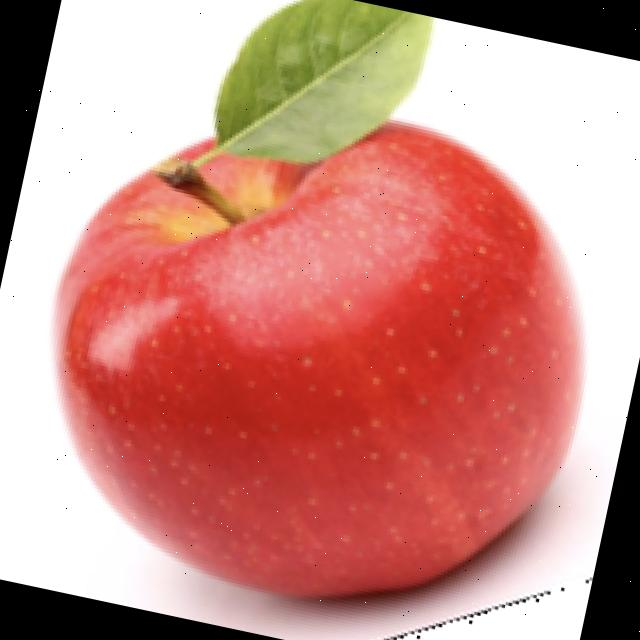apple: (44, 0, 595, 640)
